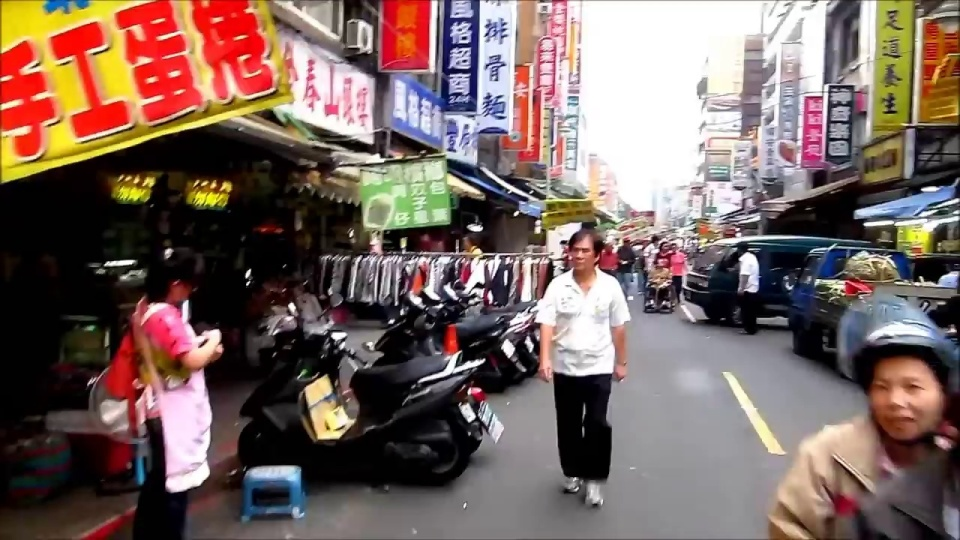person_head: (850, 332, 947, 447), (153, 249, 204, 303), (565, 233, 603, 274), (735, 238, 753, 255), (458, 234, 475, 250), (603, 234, 615, 251), (658, 242, 669, 252), (655, 258, 665, 268), (670, 243, 678, 255), (622, 237, 630, 246)
person_vbox: (767, 328, 957, 537), (534, 221, 636, 511), (132, 248, 224, 540), (735, 231, 762, 335), (642, 257, 672, 313), (442, 222, 486, 258), (666, 239, 689, 307), (616, 236, 636, 300), (597, 229, 620, 279), (654, 238, 672, 269)
